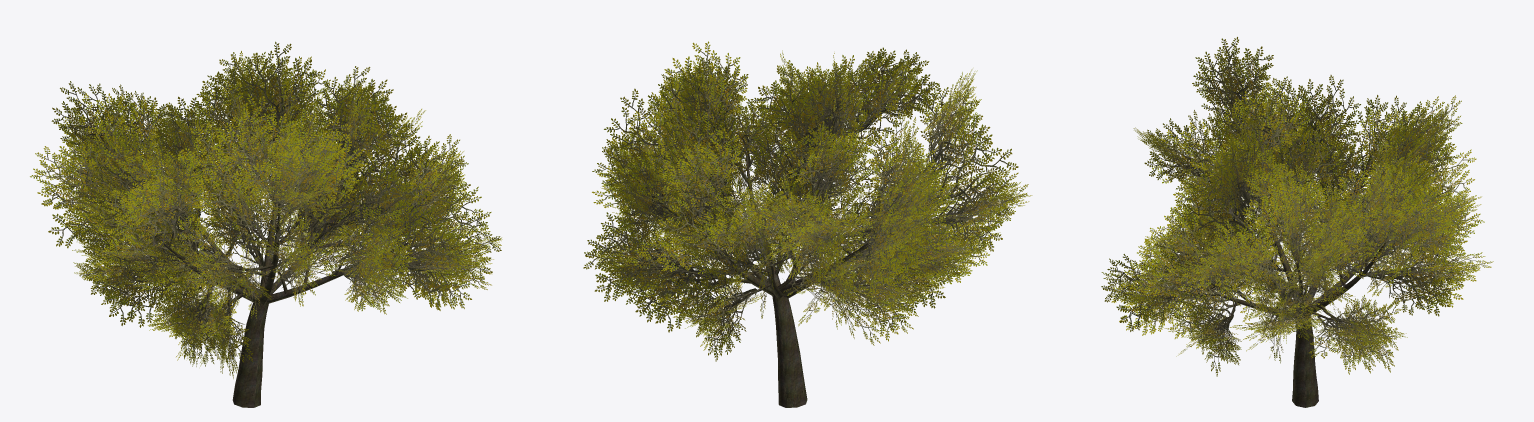
Rendered from broad02_lod0.glb.
The picture shows the model from 3 angles, left to right: view 1: azimuth 30°, elevation 25°; view 2: azimuth 150°, elevation 25°; view 3: azimuth 270°, elevation 25°; orthographic projection. The views are drawn at different scales.
Visible parts, largest first — view 1: broad02_lod0; view 2: broad02_lod0; view 3: broad02_lod0.
Part boxes in pixels (<box>): broad02_lod0: <box>30,41,502,407</box>; broad02_lod0: <box>583,41,1032,407</box>; broad02_lod0: <box>1101,37,1493,407</box>.
Size of the model in its own units: 61.3 by 48.34 by 57.68.
2 materials, 2 textured.
